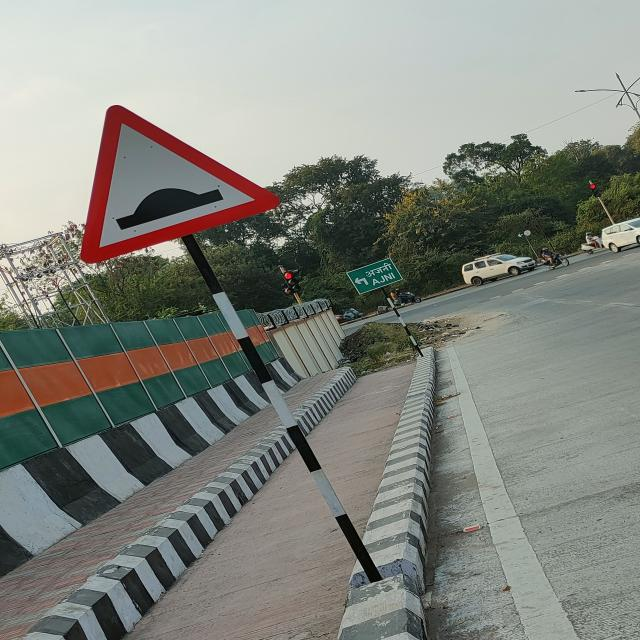horn_prohibited: (78, 105, 280, 263)
